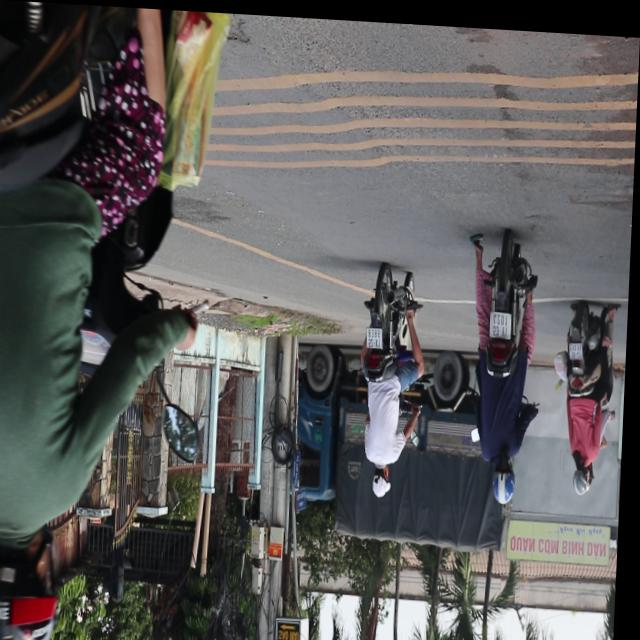helmet: (0, 526, 70, 640), (493, 450, 519, 499), (574, 454, 598, 491)
licenseplate: (0, 4, 233, 640), (463, 224, 546, 501), (355, 261, 430, 498), (557, 294, 620, 491)
motorcyclist: (375, 461, 397, 494)
nohelmet: (492, 306, 515, 333), (368, 323, 385, 344), (572, 335, 586, 354)
